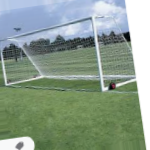goals: (1, 16, 137, 92)
